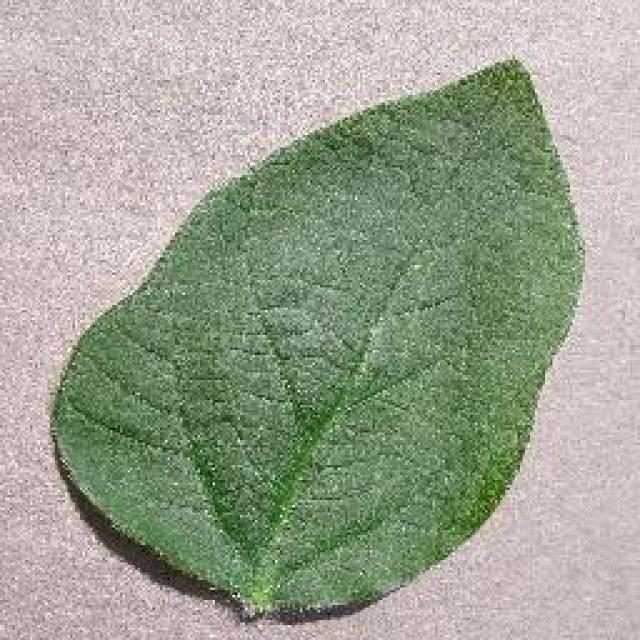Soy_healthy: (120, 146, 556, 572)
